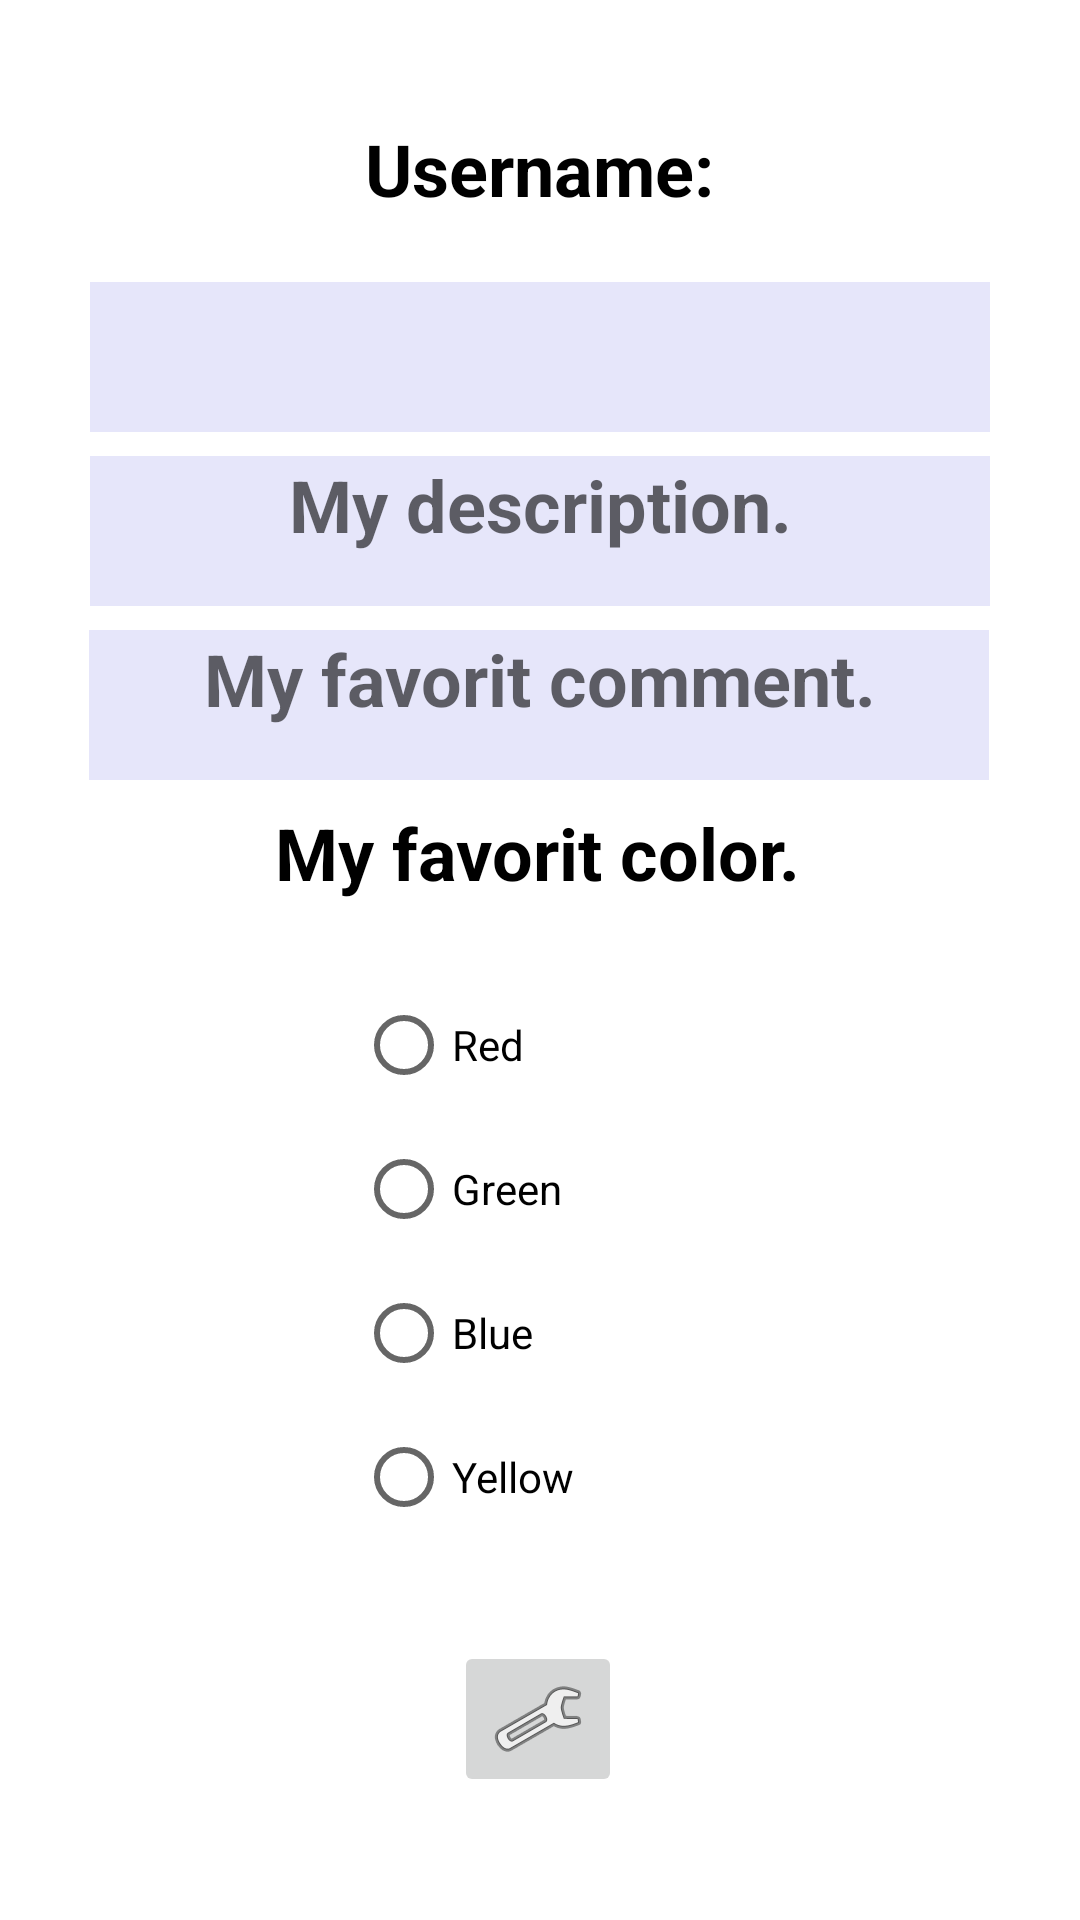

Screen size 1080x1920. Icon name, then its center in pixels as (x=x, y=y):
preferences: (x=538, y=1719)
